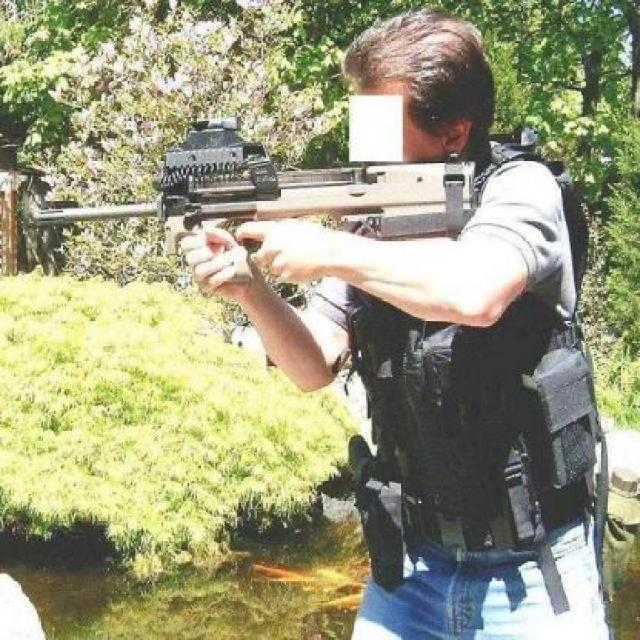weapon: (22, 126, 484, 262)
